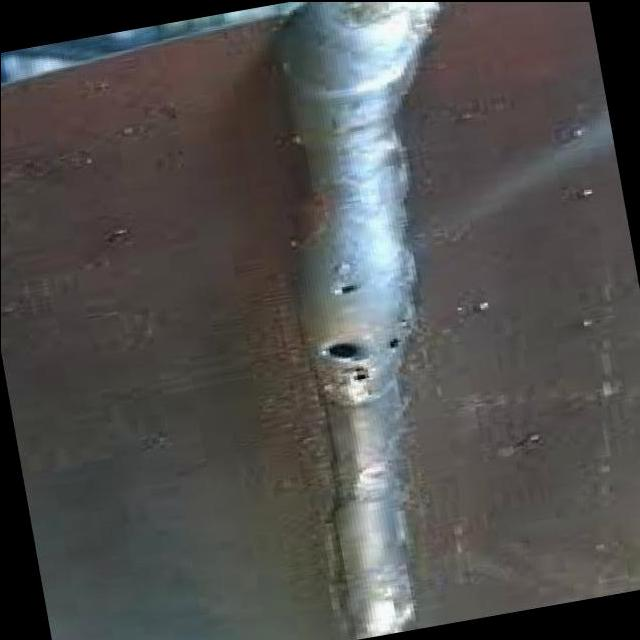defect: (319, 336, 371, 383), (378, 330, 415, 354), (330, 280, 363, 300)
